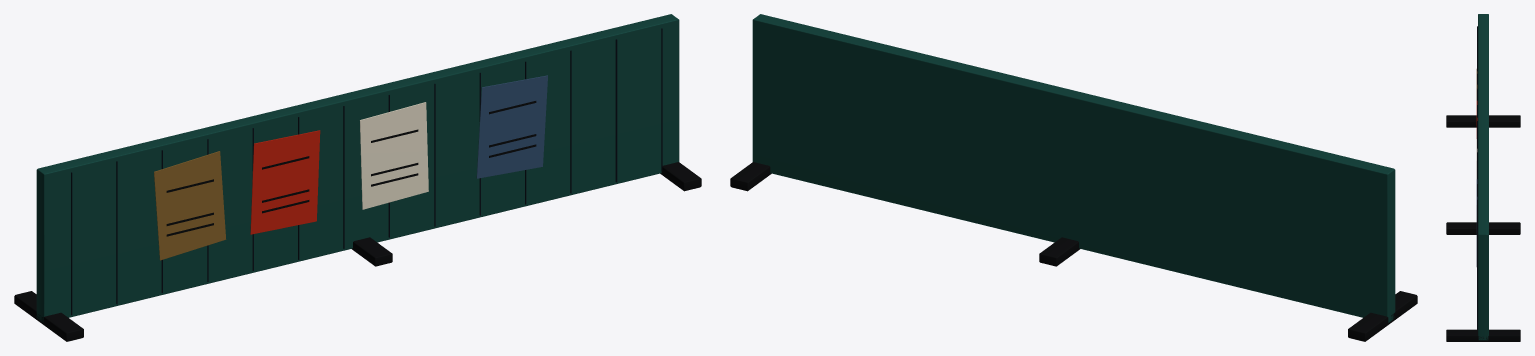
The model's file is construction-wall-7.glb.
The picture shows the model from 3 angles, left to right: view 1: azimuth 30°, elevation 25°; view 2: azimuth 150°, elevation 25°; view 3: azimuth 270°, elevation 25°; orthographic projection. The views are drawn at different scales.
Visible parts, largest first — view 1: construction-wall-7; view 2: construction-wall-7; view 3: construction-wall-7.
Part boxes in pixels (x1,y1,x2,y2): construction-wall-7: (14, 14, 701, 341); construction-wall-7: (730, 14, 1417, 341); construction-wall-7: (1446, 14, 1520, 341).
Size of the model in its own units: 7 by 1.6 by 1.
1 material, 1 textured.
